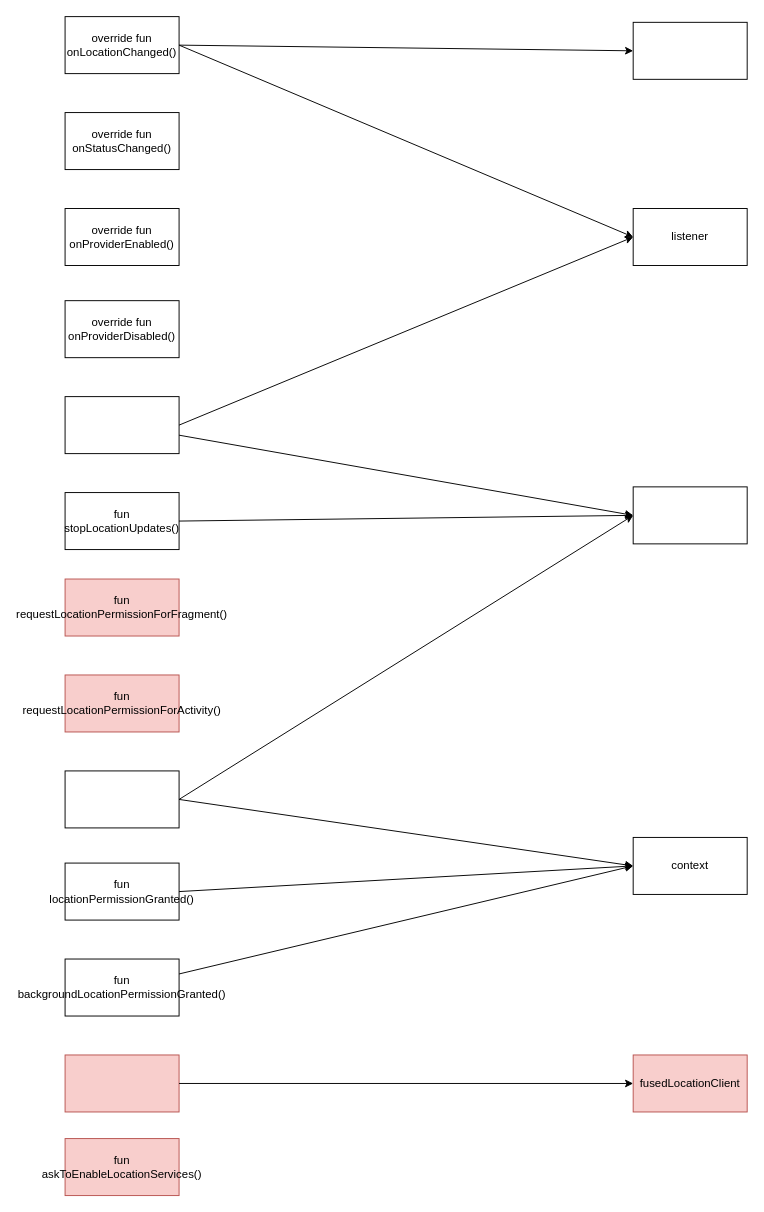
The diagram is 764 pixels wide and 1212 high, and some of its shapes have lost their labels. Each missing label, with the centre of its shape:
"fun getCurrentLocation()" belongs at point 121,1083.
"fun locationServicesEnabled()" belongs at point 121,799.
"fun possiblyRequestLocationUpdates()" belongs at point 121,425.
"lastKnownLocation" belongs at point 689,50.
"locationManager" belongs at point 689,515.
